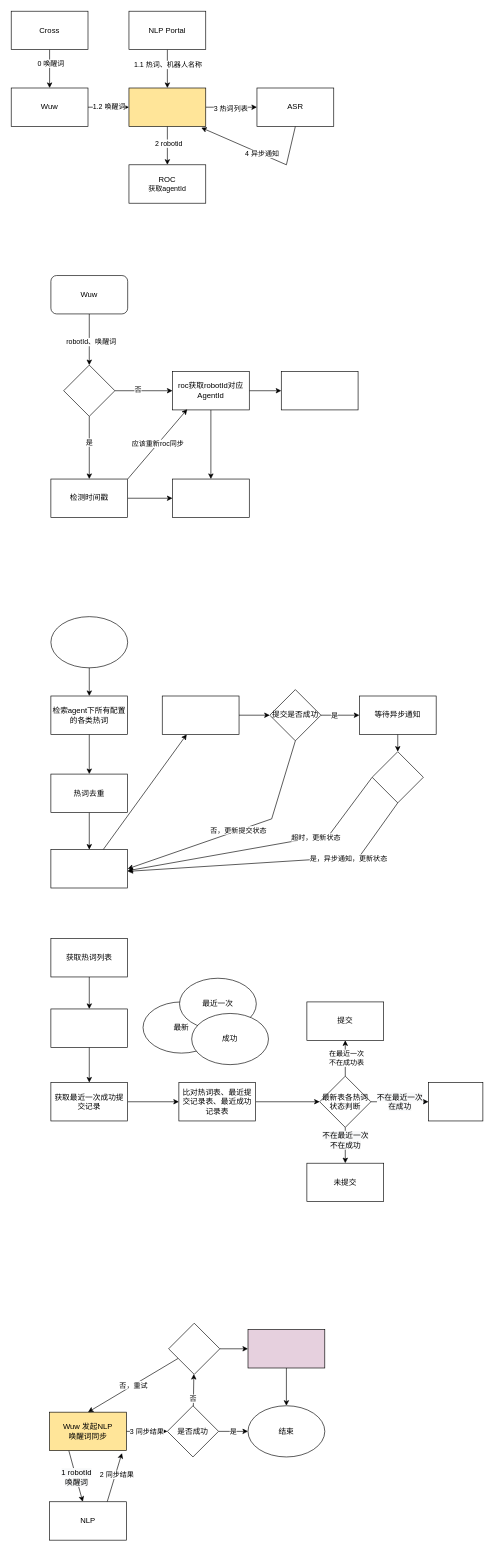
Image size: 494x1551. Some labels were removed from this diagram. Here are the shapes that lost their labels. From the top down, the box of each, then its label:
(128, 87, 206, 126): NLP 热词服务
(63, 364, 115, 416): robotId 缓存命中
(281, 371, 358, 410): 更新redis缓存
(172, 478, 249, 517): 存储robotId、agentId、唤醒词
(50, 616, 128, 668): NLP开始同步 热词
(162, 695, 239, 734): 提交ASR
(372, 751, 423, 803): 是否回调
(50, 849, 128, 888): 记录同步日志
(50, 1008, 128, 1047): 获取最近一次提交记录及状态
(428, 1082, 483, 1121): 生效
(168, 1323, 220, 1374): 是否超过 重试次数
(247, 1329, 325, 1368): 发送告警
